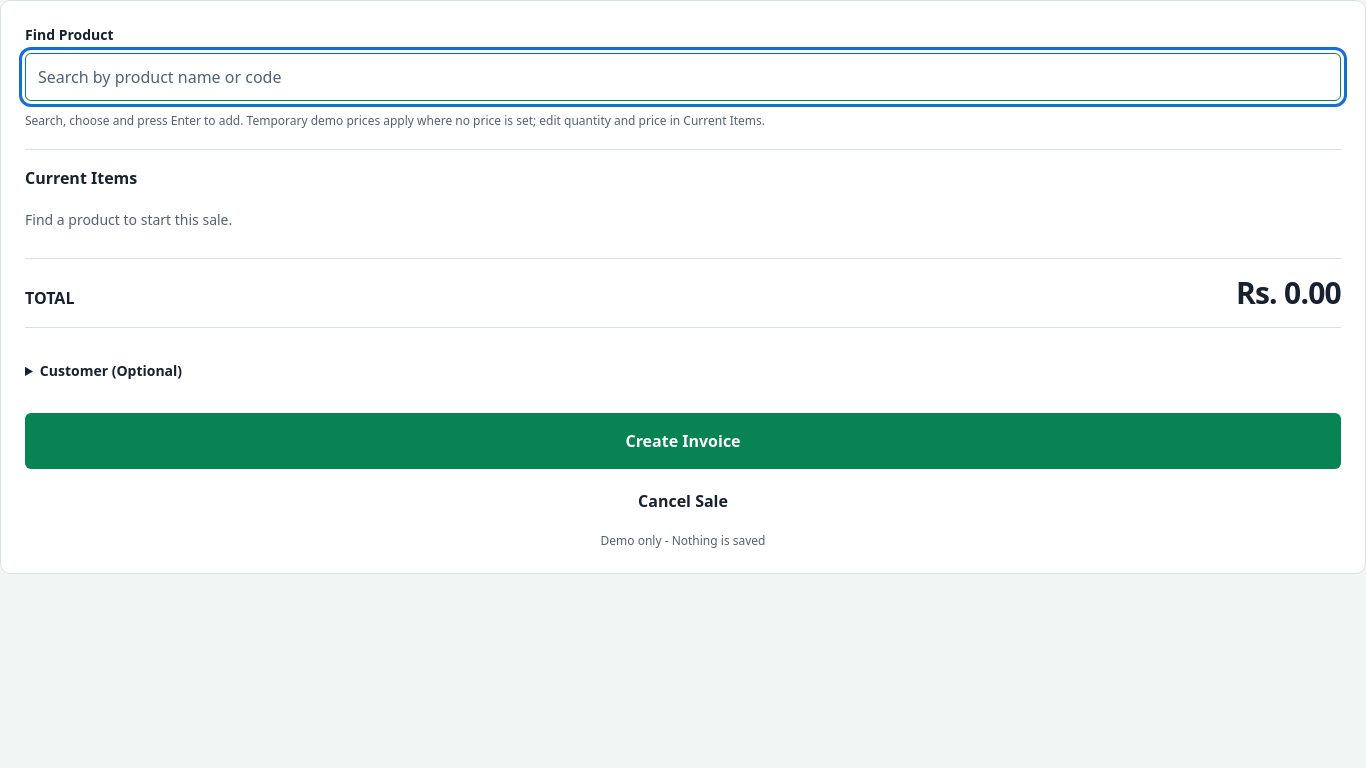
Scenario: increases an existing line by one without replacing its edited selling price
Type "dia" into the dropdown labelled "Find Product" at (683, 77), box [25,53,1341,101]
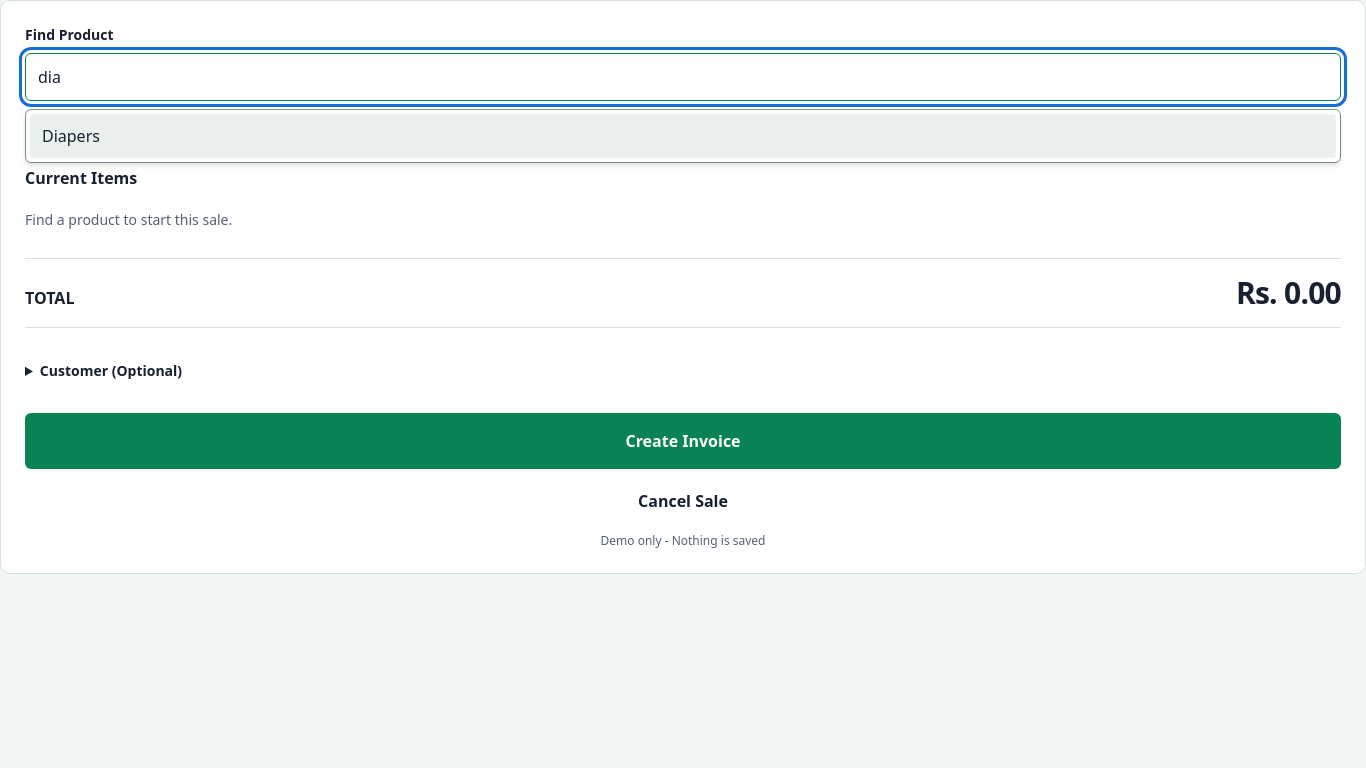
Press Enter in the dropdown labelled "Find Product", box [25,53,1341,101]
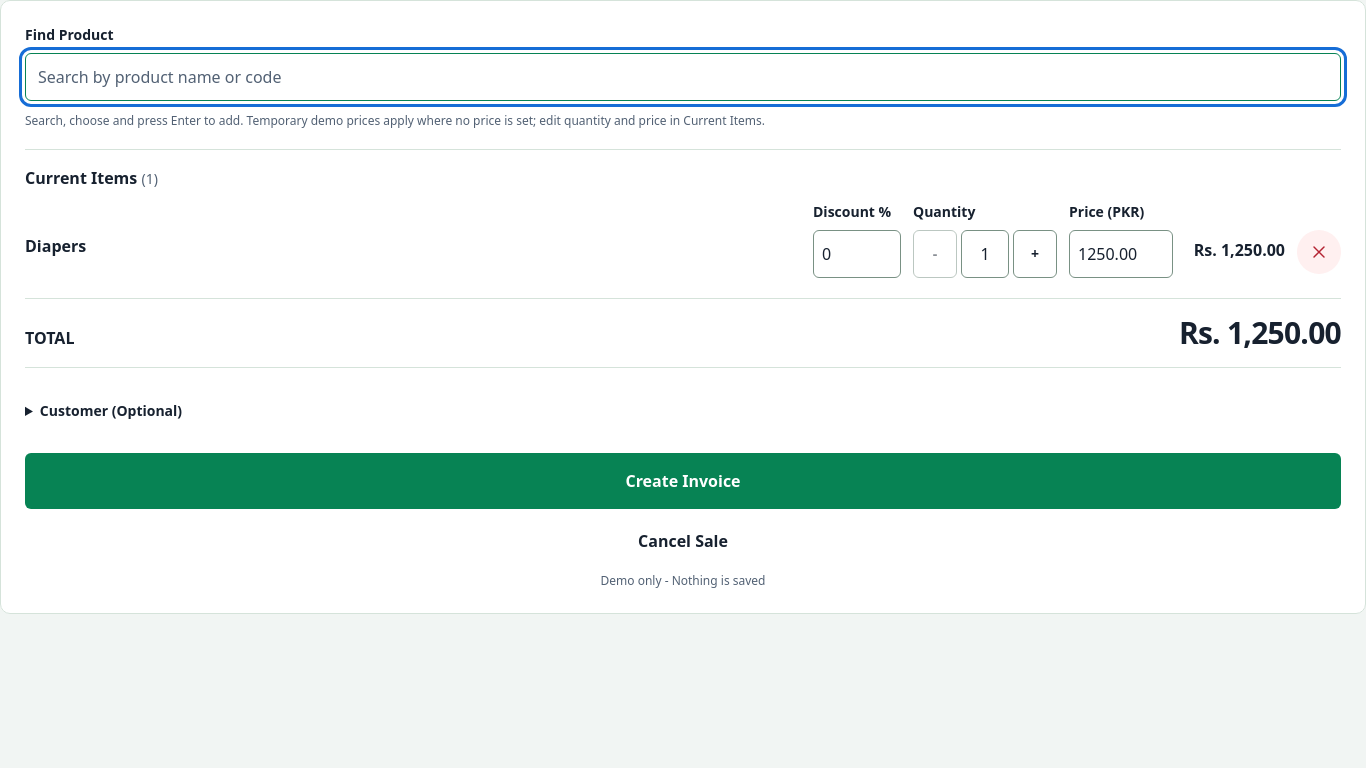
Replace the text in the field named "Diapers quantity, item 1" with "2" at (985, 254), box [961,230,1009,278]
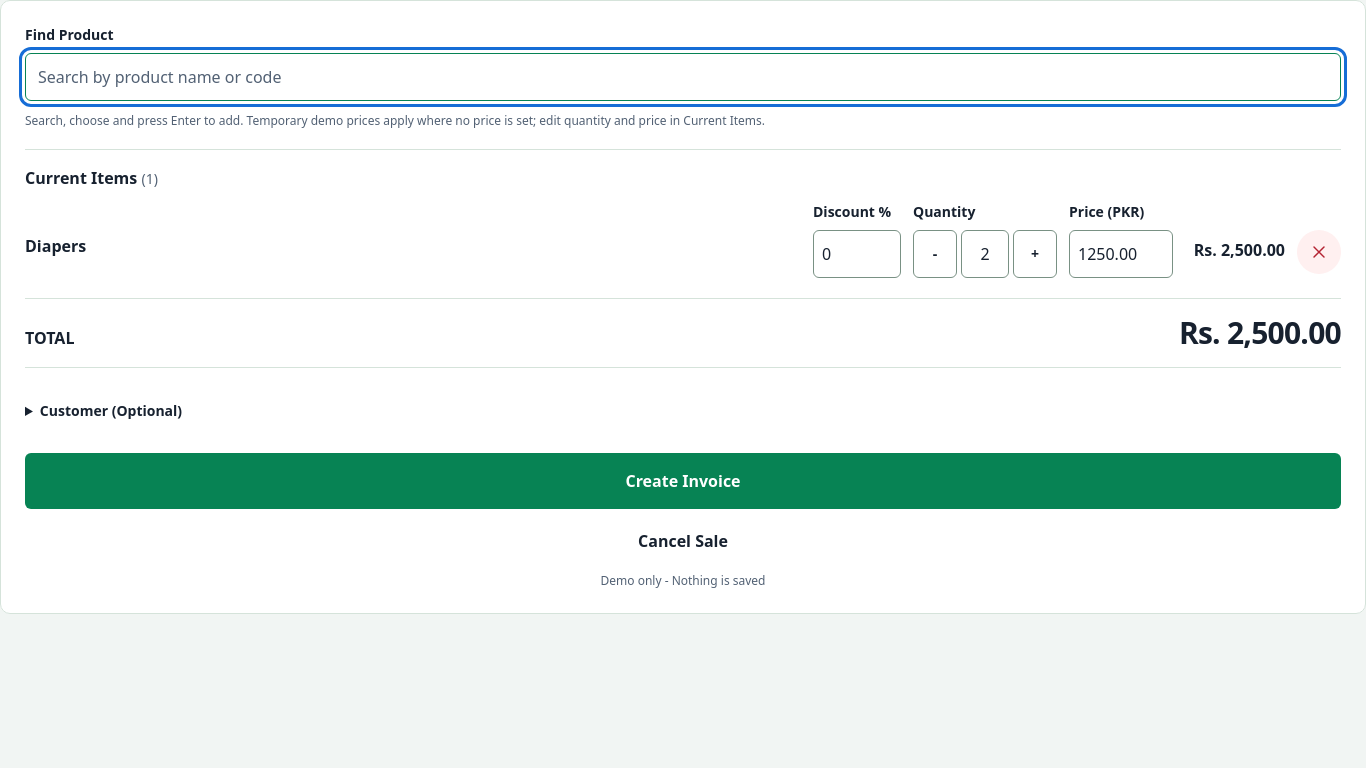
Replace the text in the field named "Diapers price (PKR), item 1" with "1200.50" at (1121, 254), box [1069,230,1173,278]
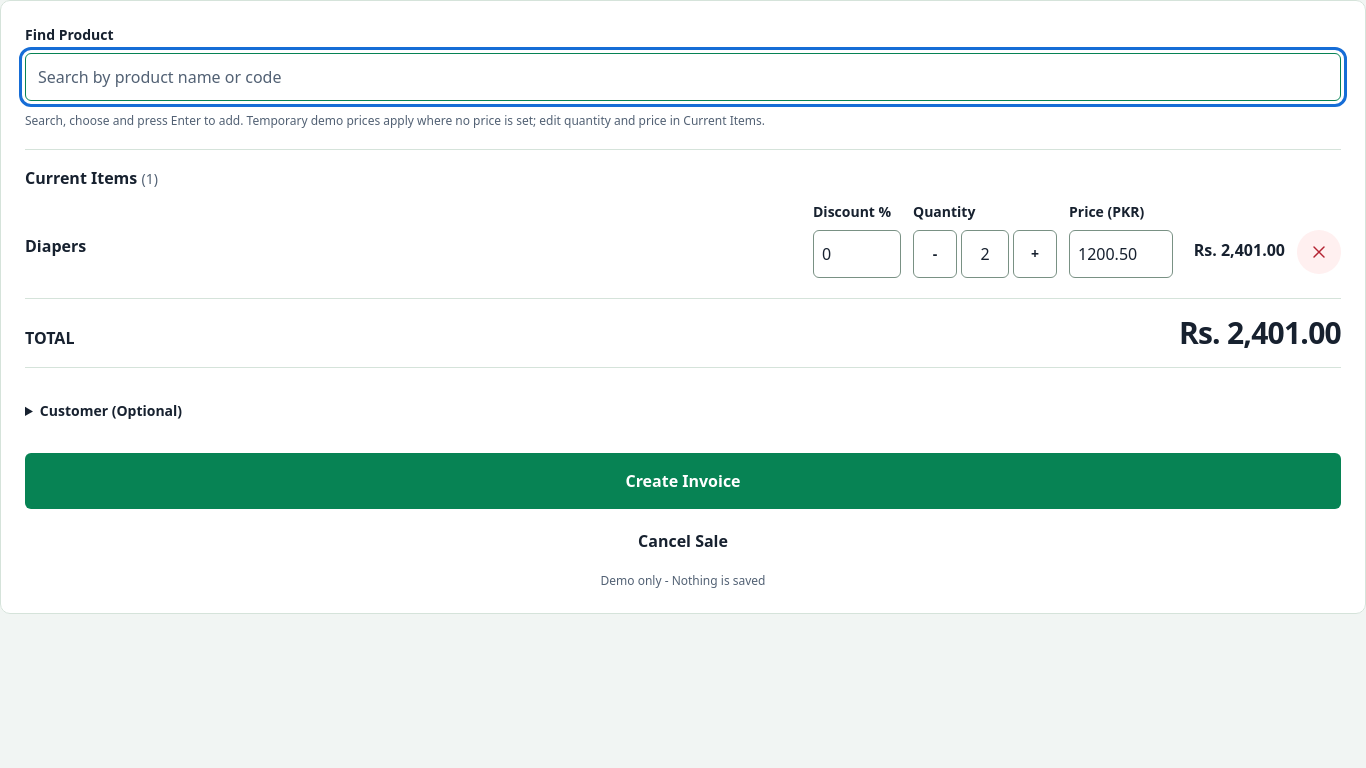
Type "dia" into the dropdown labelled "Find Product" at (683, 77), box [25,53,1341,101]
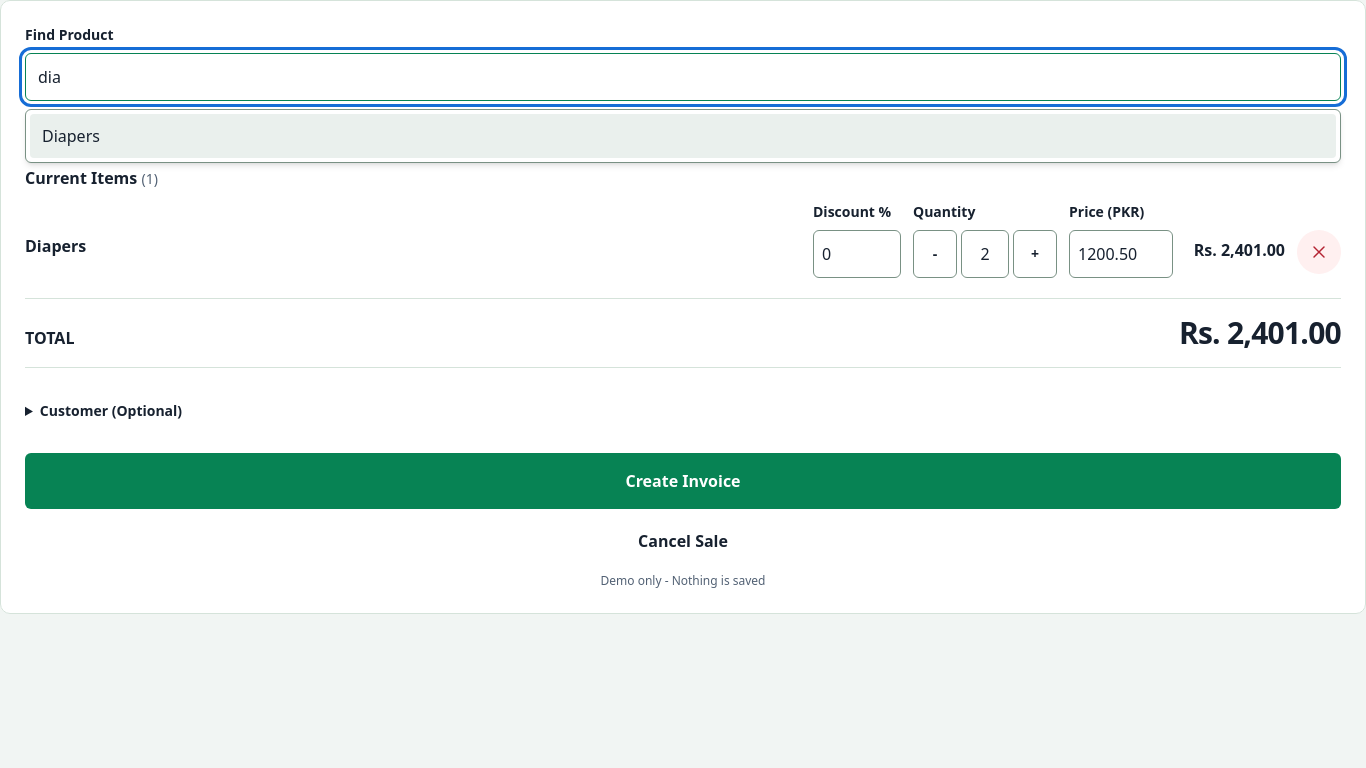
Press Enter in the dropdown labelled "Find Product", box [25,53,1341,101]
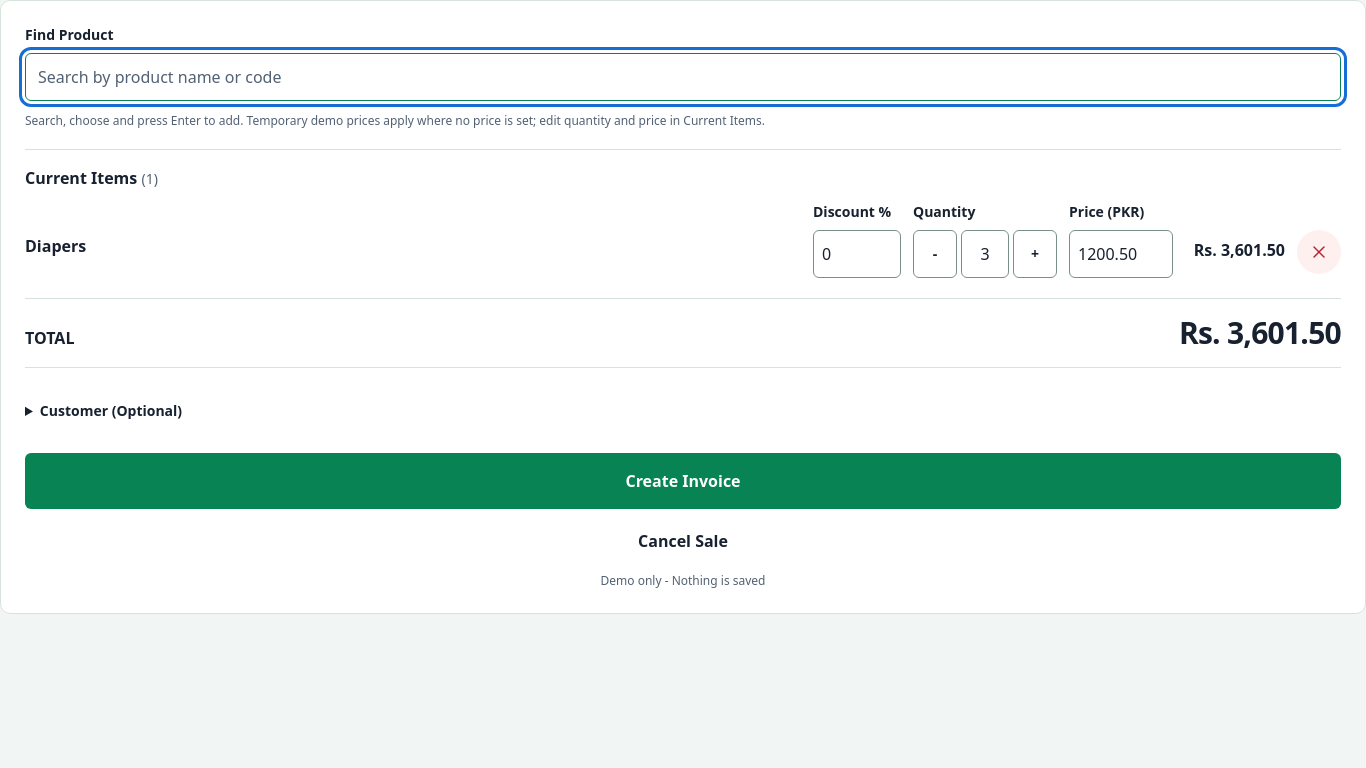
Now the number of list items is 1, box [25,202,1341,278]
Now the field named "Diapers quantity, item 1" holds "3", box [961,230,1009,278]
Now the text with test id "sale-total" reads "Rs. 3,601.50", box [1179,312,1341,353]
